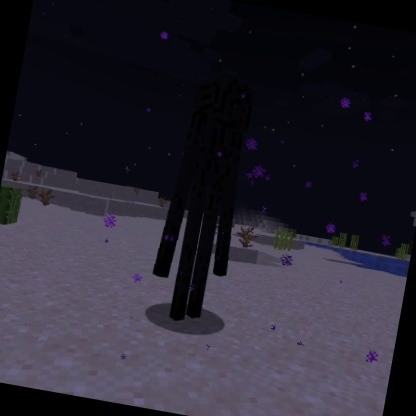enderman: (141, 66, 267, 333)
